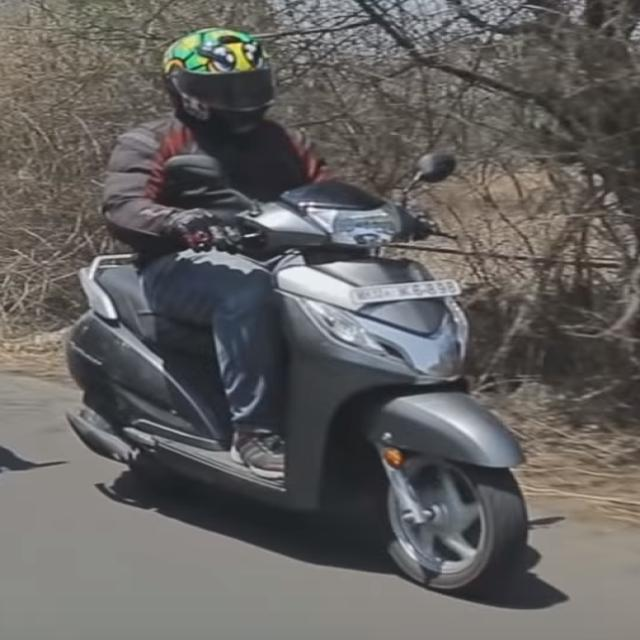helmet: (159, 24, 262, 134)
